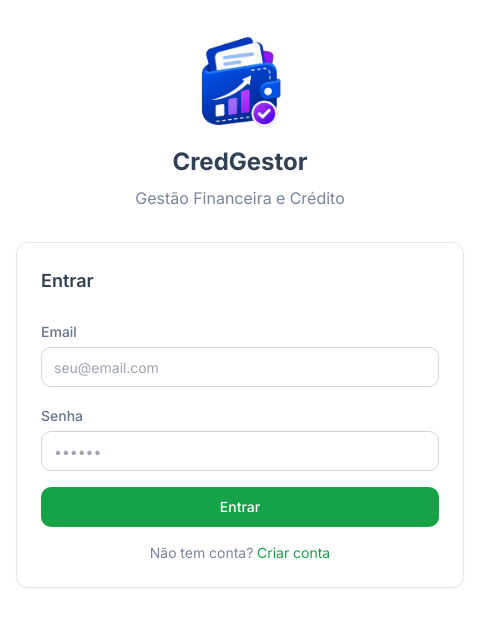
Test case: LoginPage › shows validation errors for empty submission
Click the button "Entrar" at (240, 507), box [41,487,439,527]
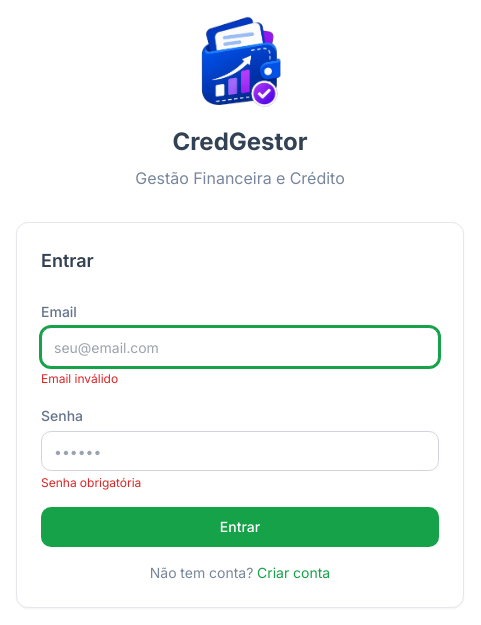
Expected: the text "Email inválido" is shown, [41,371,118,386]
